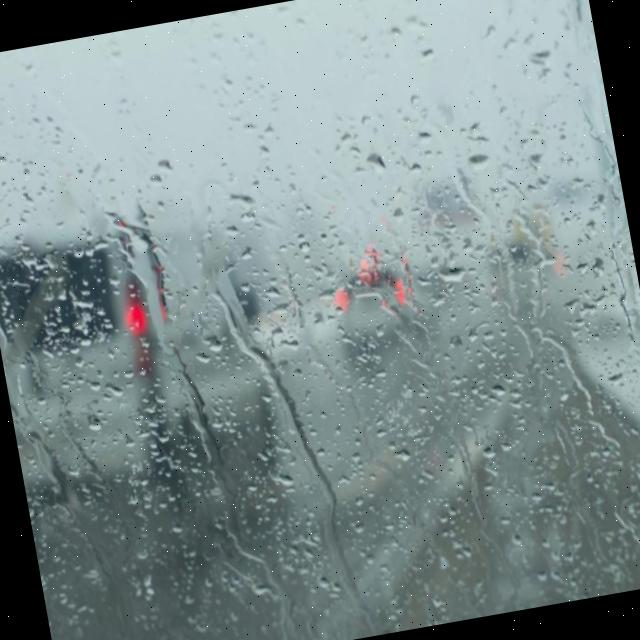car: (0, 204, 305, 544), (324, 243, 426, 361)
